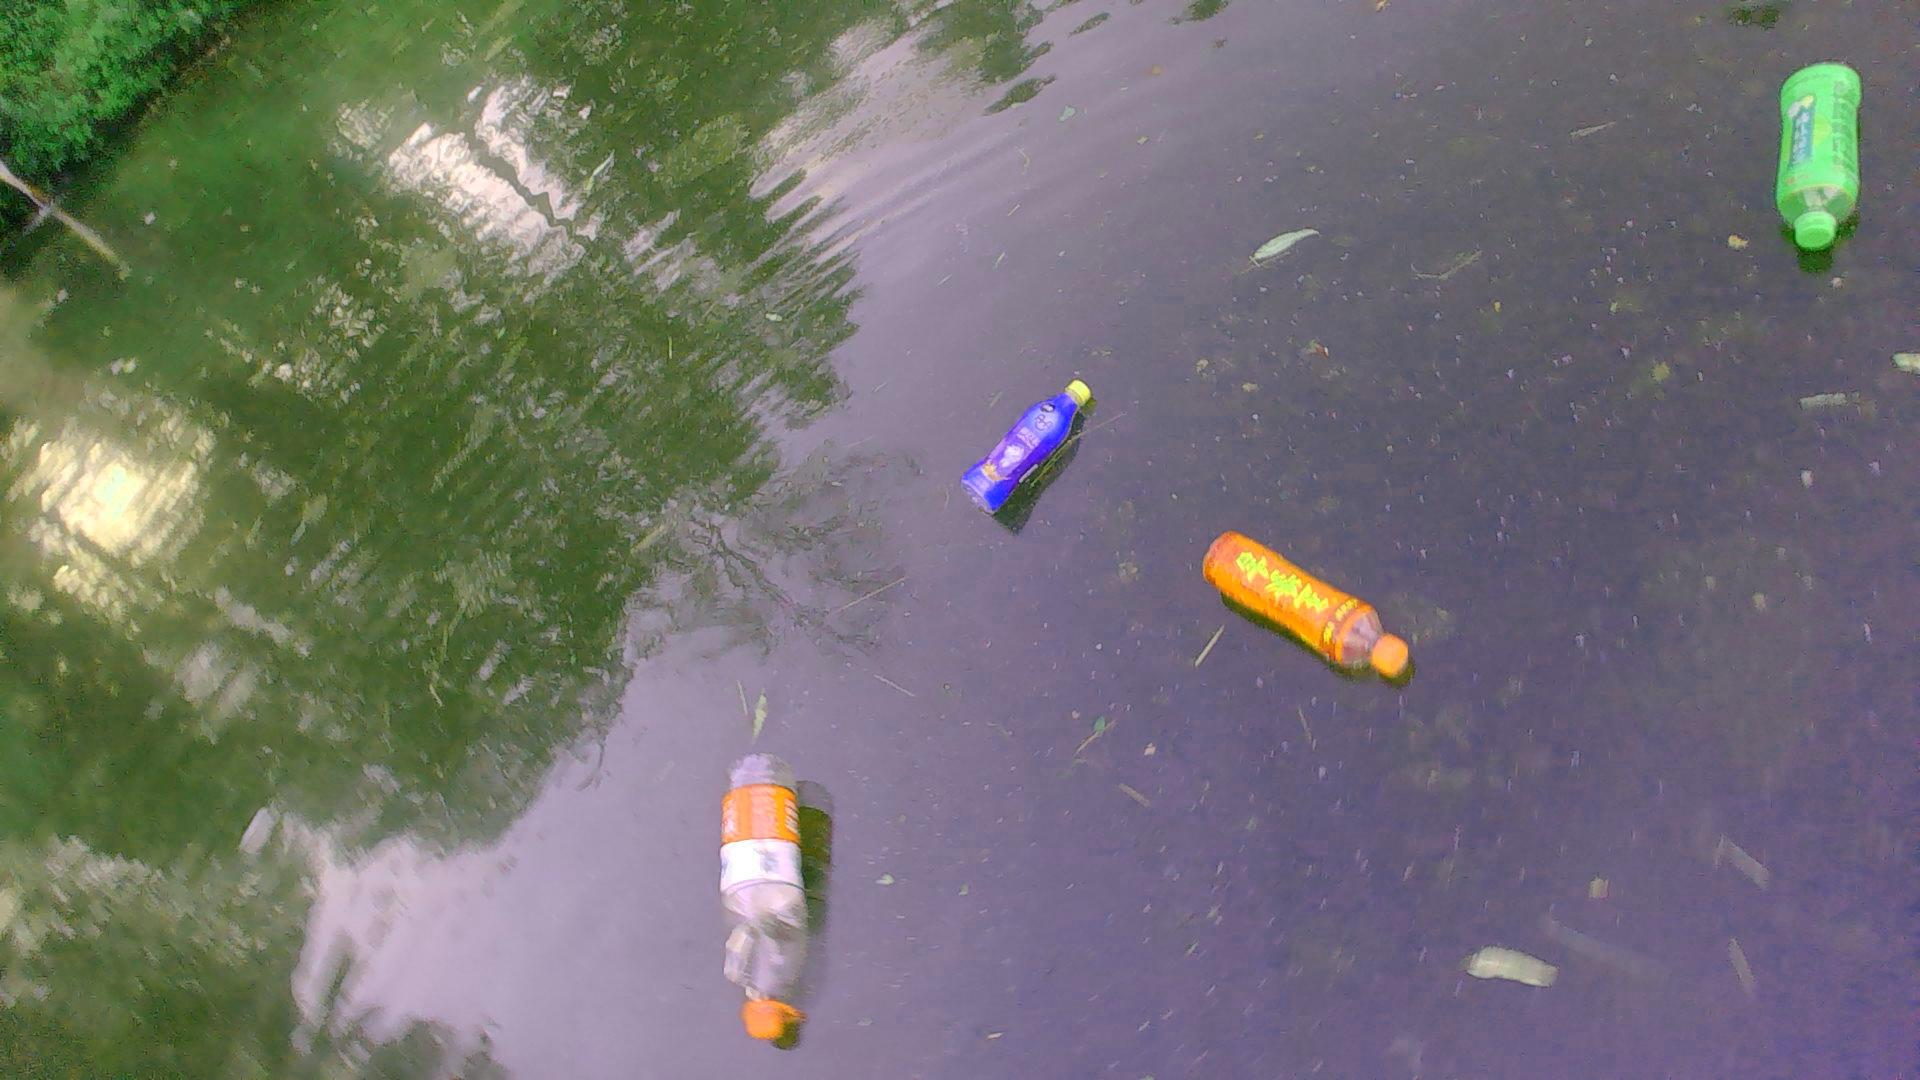Plastic: (1197, 521, 1428, 684), (708, 742, 814, 1046), (957, 365, 1101, 518), (1770, 51, 1867, 252)
